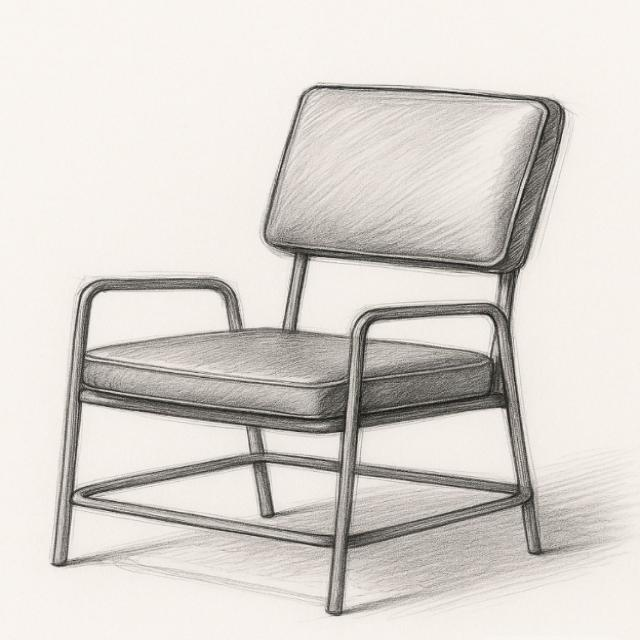Armrest: (343, 302, 520, 431), (68, 276, 244, 388)
Backrest: (261, 83, 568, 361)
Base: (56, 387, 534, 549)
Leg_Structure: (52, 452, 544, 615)
Seat: (81, 328, 493, 422)
